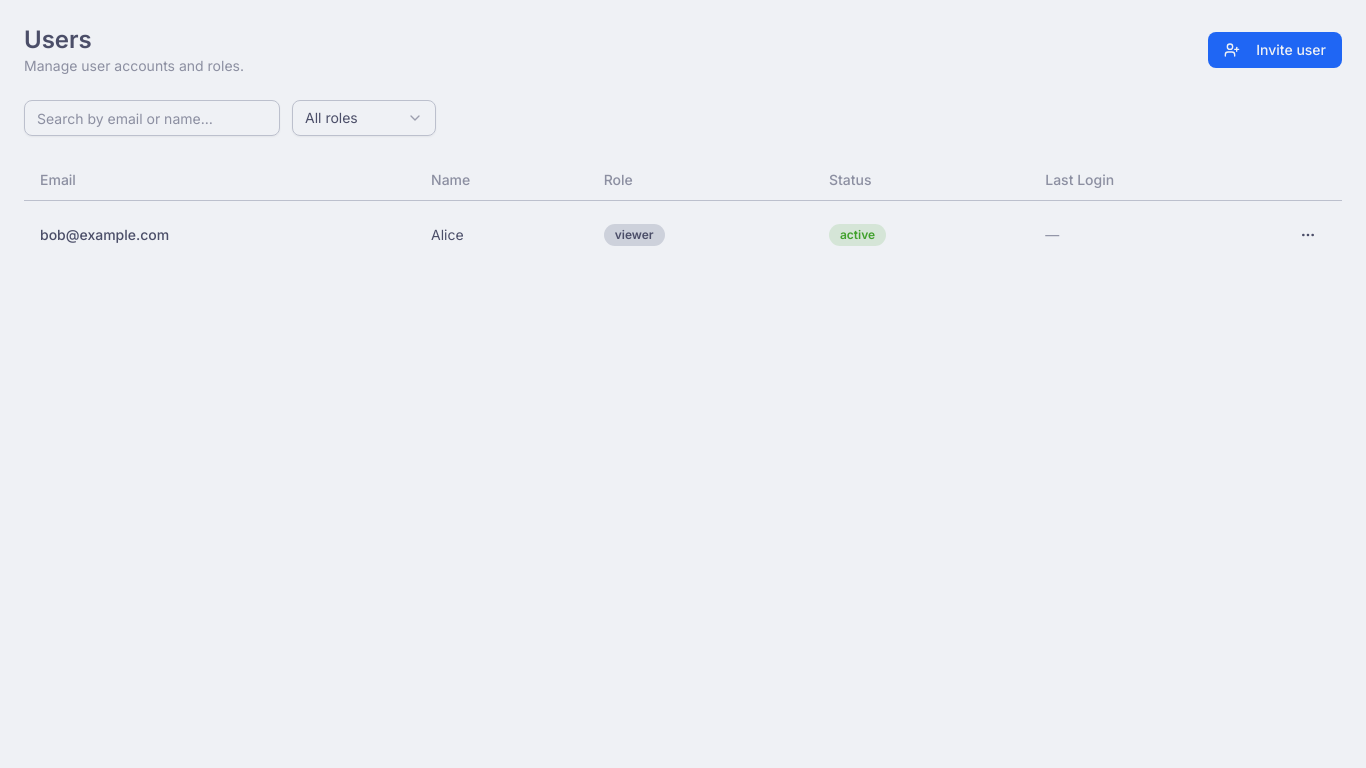
Test: UsersPage › reset flow: shows confirm dialog then temp password on success
Click the button named "Actions for bob@example.com" at {"x": 1308, "y": 234}, box x1=1290 y1=216 x2=1326 y2=252
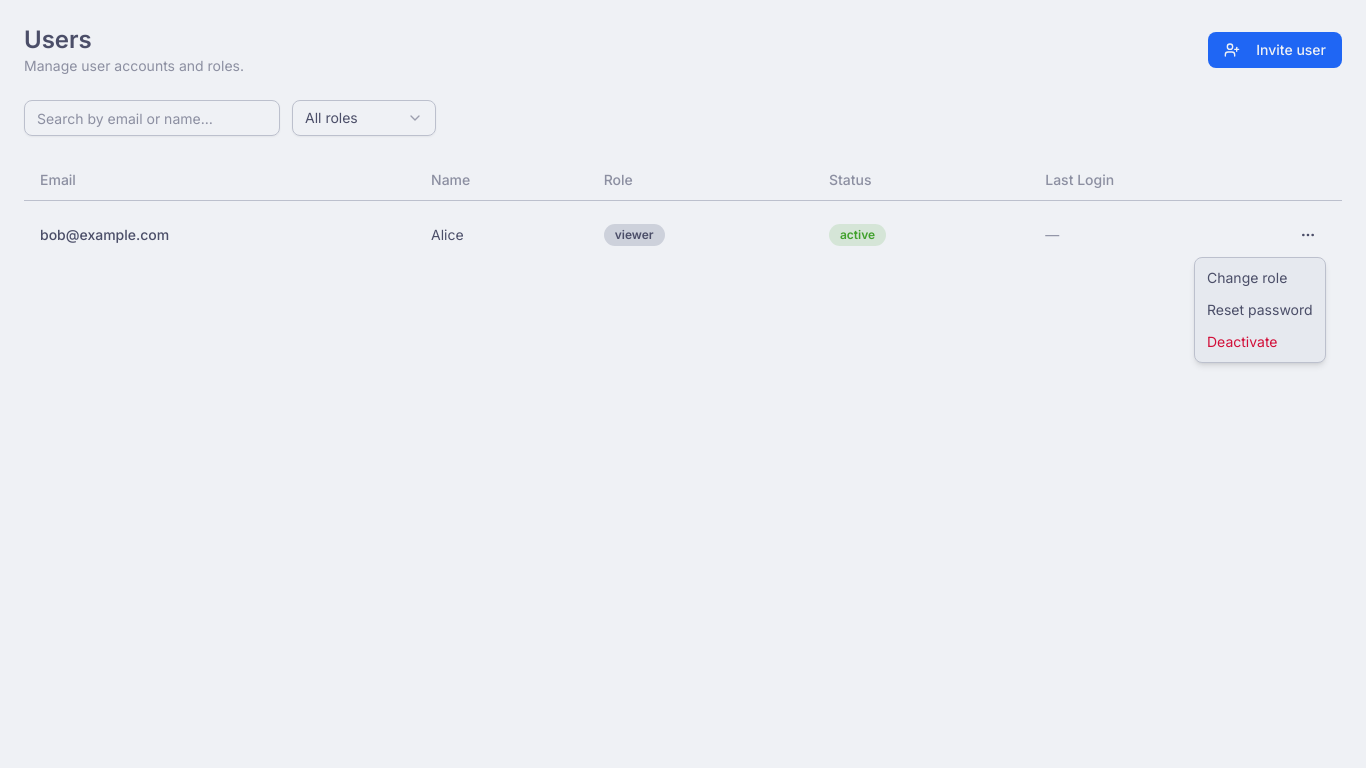
Click the menu item "Reset password" at {"x": 1260, "y": 310}, box x1=1207 y1=301 x2=1313 y2=318
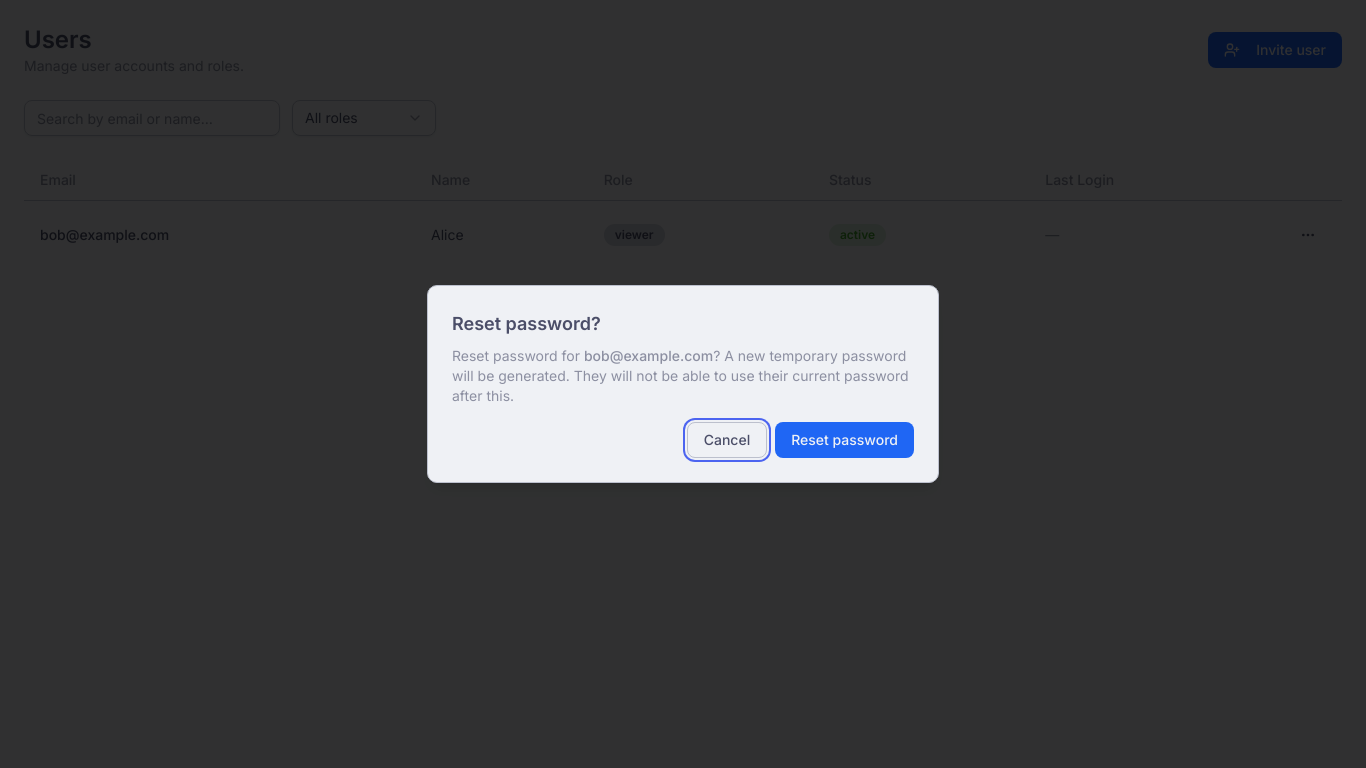
Check: the heading "Reset password?" is shown, box x1=452 y1=313 x2=601 y2=334
Click the button "Reset password" at {"x": 845, "y": 440}, box x1=775 y1=422 x2=914 y2=458
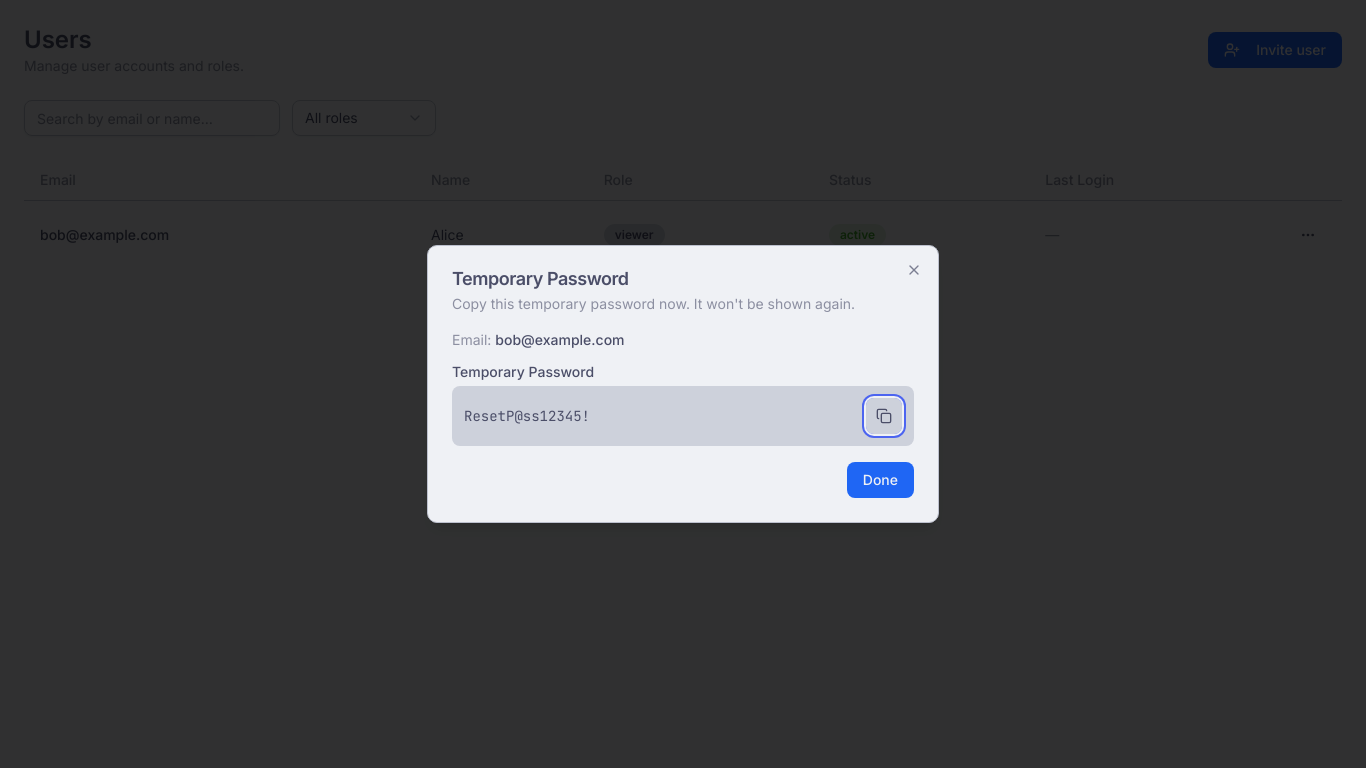
Check: the text "ResetP@ss12345!" is shown, box x1=464 y1=407 x2=590 y2=425
Check: the button named "copy password" is shown, box x1=866 y1=398 x2=902 y2=434
